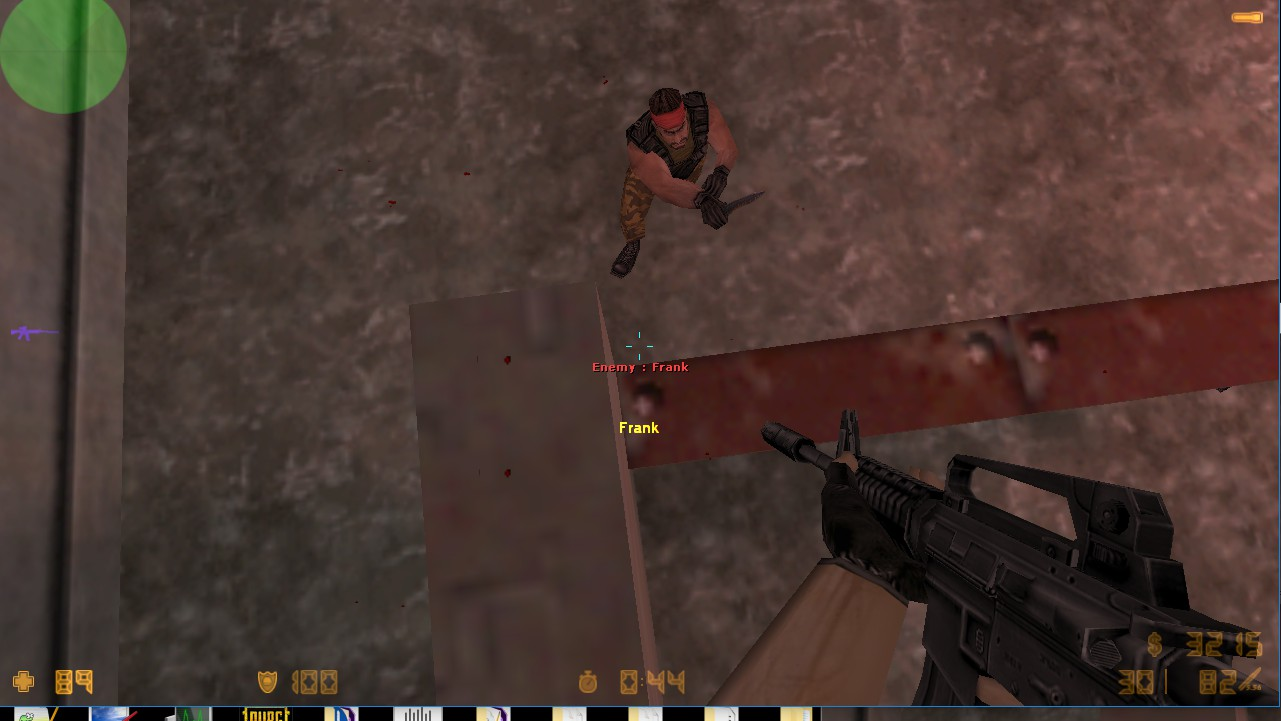person: (595, 73, 774, 285)
